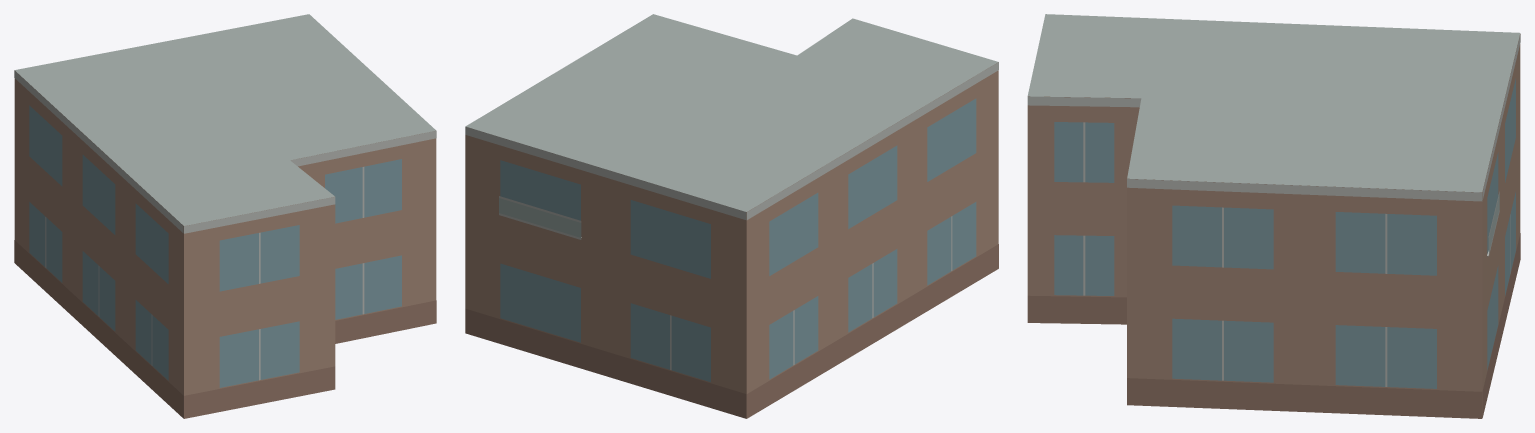
Rendered from survey-upis-32761934.glb.
3 views of the same model, side by side, from view 1: azimuth 30°, elevation 25°; view 2: azimuth 150°, elevation 25°; view 3: azimuth 270°, elevation 25° (orthographic). The views are drawn at different scales.
Parts seen in each view (by area): view 1: survey-upis-32761934.tmp; view 2: survey-upis-32761934.tmp; view 3: survey-upis-32761934.tmp.
Boxes of the visible parts, <box> form: survey-upis-32761934.tmp: <box>14,14,436,418</box>; survey-upis-32761934.tmp: <box>465,14,998,418</box>; survey-upis-32761934.tmp: <box>1027,14,1520,418</box>.
Size of the model in its own units: 10.32 by 6.1 by 12.05.
